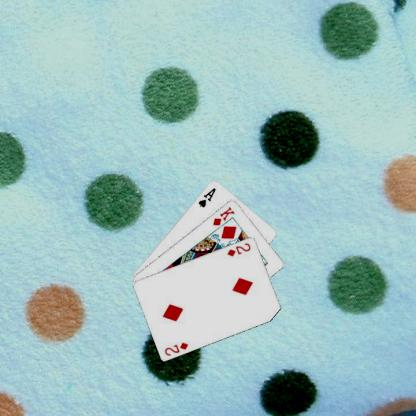2D: (162, 339, 190, 357), (225, 240, 252, 258)
AS: (196, 185, 217, 208)
KD: (210, 204, 236, 226)
